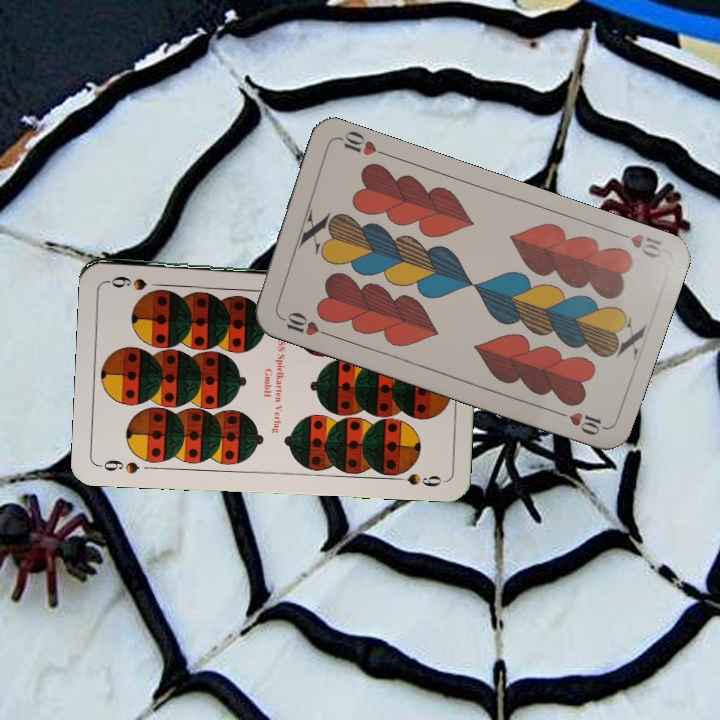H10: (610, 227, 665, 261), (274, 308, 331, 339)
S9: (95, 455, 142, 476)
